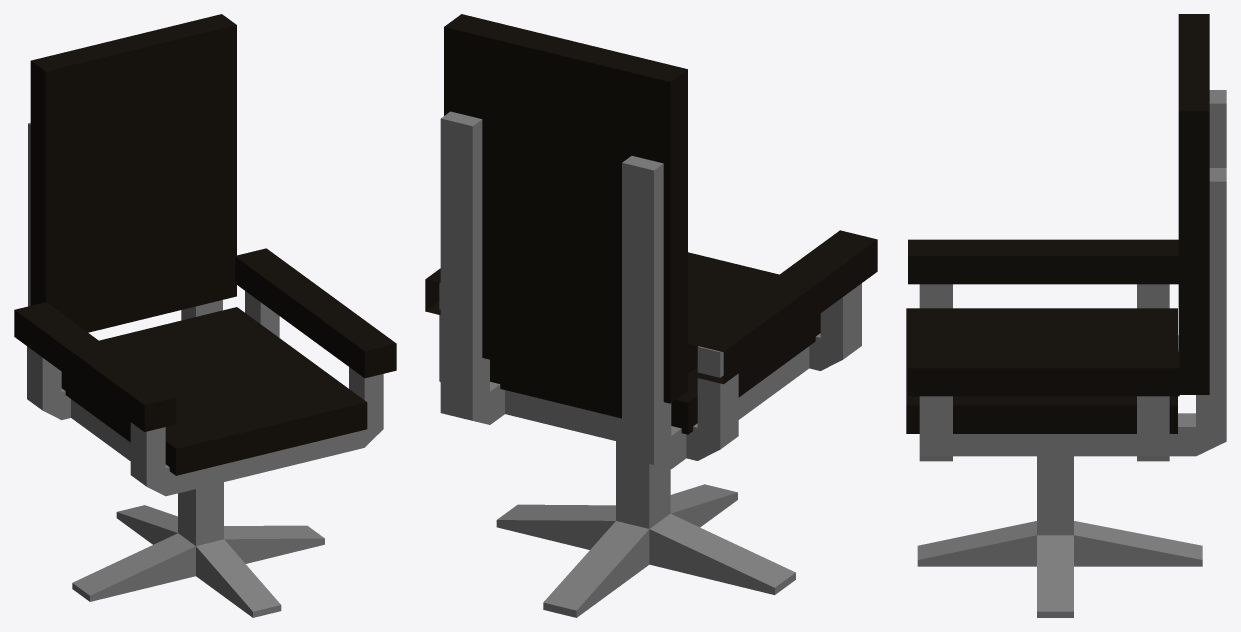
The model's file is AdvancedChairBlack.fbx.
3 renders of one model, left to right at view 1: azimuth 30°, elevation 25°; view 2: azimuth 150°, elevation 25°; view 3: azimuth 270°, elevation 25°, orthographic. The views are drawn at different scales.
Parts seen in each view (by area): view 1: Cube.002, Cube.001; view 2: Cube.002, Cube.001; view 3: Cube.002, Cube.001.
Boxes of the visible parts, bbox=[...] form: Cube.002: bbox=[14, 14, 396, 475]; Cube.001: bbox=[27, 123, 383, 617]; Cube.002: bbox=[425, 14, 877, 434]; Cube.001: bbox=[439, 111, 861, 617]; Cube.002: bbox=[906, 14, 1209, 433]; Cube.001: bbox=[917, 90, 1226, 617].
Bounding box in the file's own units: 374 × 674 × 395.
